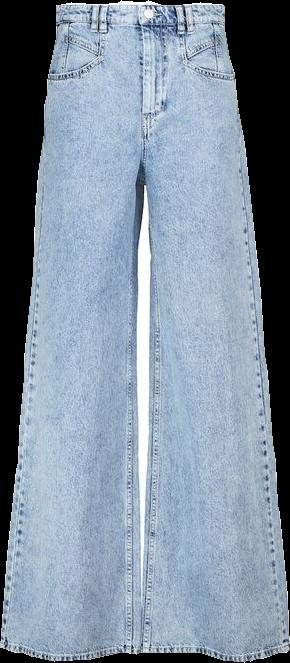Hemline: (0, 641, 146, 662), (138, 643, 289, 662)
Pantleg: (139, 1, 289, 660), (1, 1, 142, 660)
Waistline: (55, 16, 226, 29), (55, 0, 226, 12)
